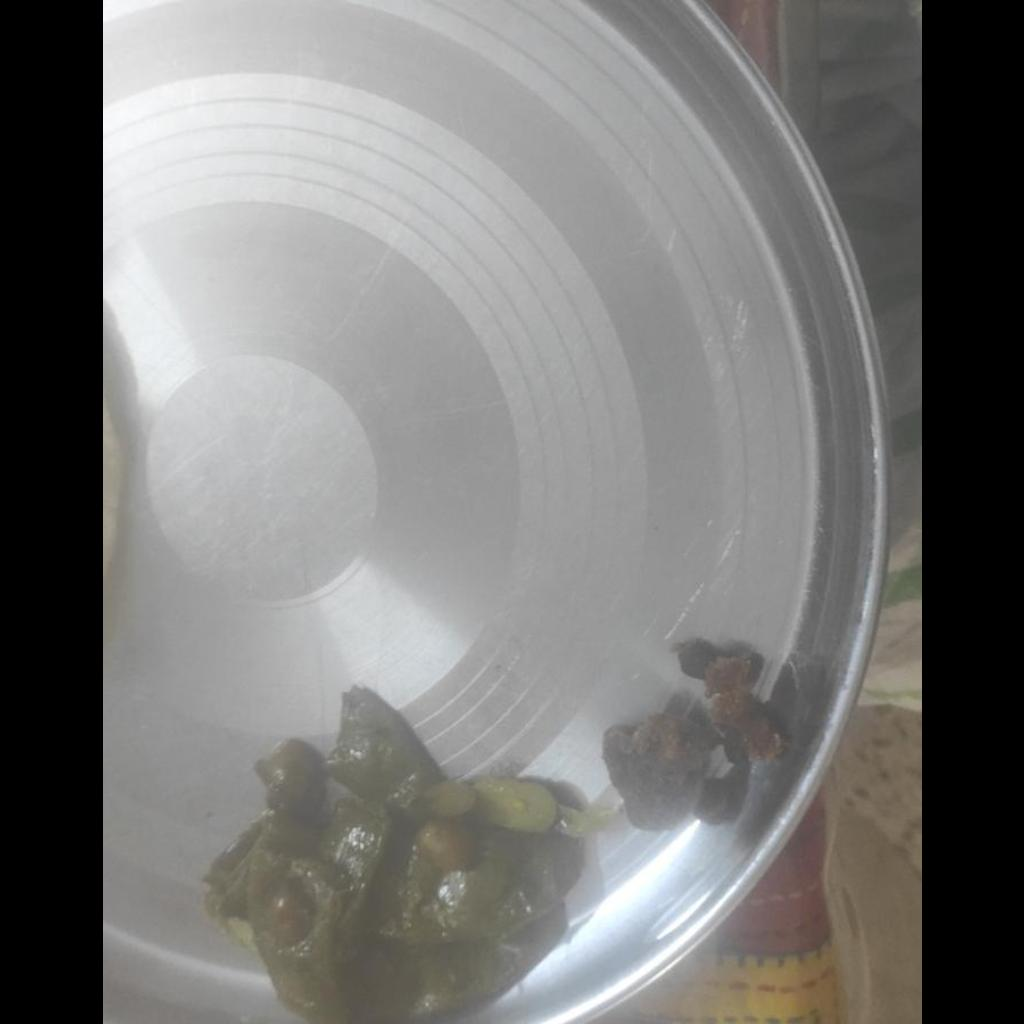chola: (601, 642, 787, 832)
vaji: (196, 690, 592, 1022)
